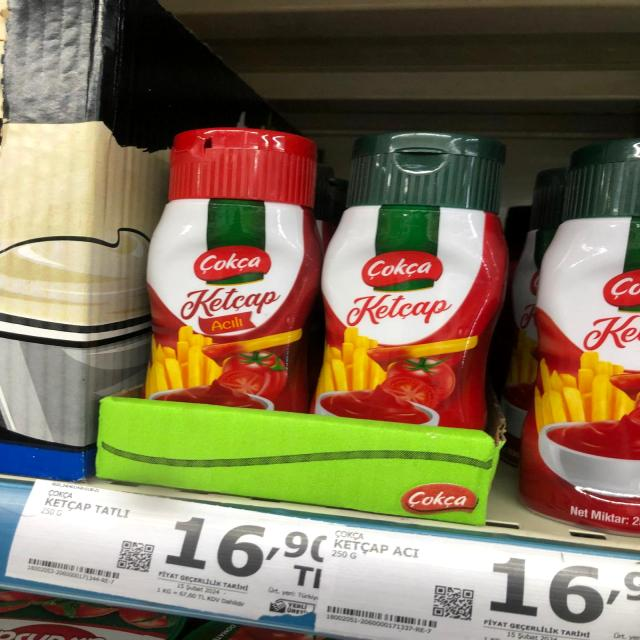ketchup: (304, 129, 537, 429), (132, 123, 333, 413)
